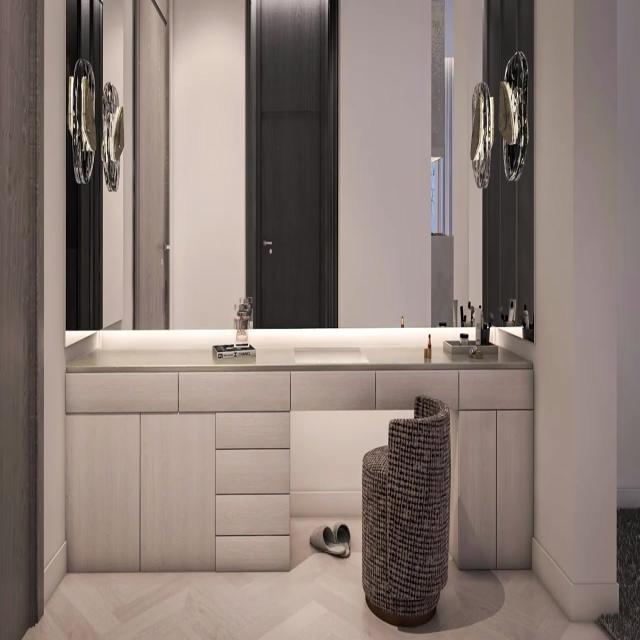door: (250, 0, 332, 328)
obstacle: (64, 332, 534, 576), (361, 394, 451, 626)
